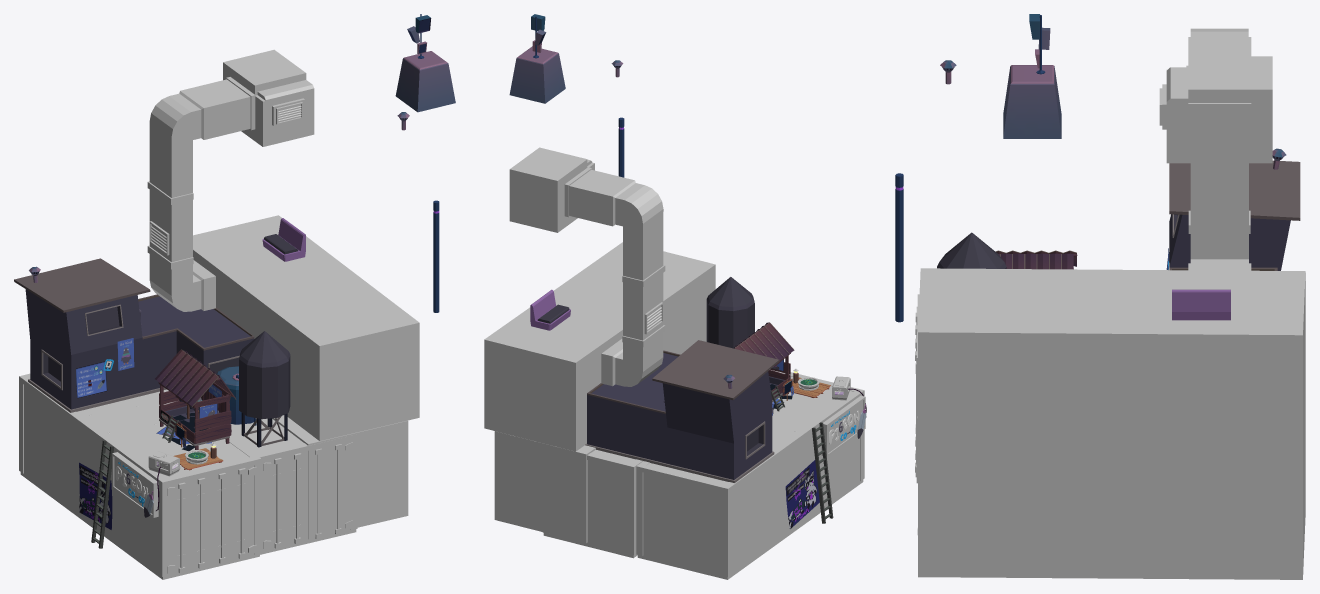
File: DBPigeonCoop.fbx
3 renders of one model, left to right at view 1: azimuth 30°, elevation 25°; view 2: azimuth 150°, elevation 25°; view 3: azimuth 270°, elevation 25°, orthographic. The views are drawn at different scales.
Visible parts, largest first — view 1: BoxCrate.224, BoxCrate.095, Pigeon_Home, Vent.024, BoxCrate.238, BoxCrate.096, Pigeon_Coop, WaterTank.007, Transformer.013, Pigeon_Sign, Poster.158, Pigeon_Chair (+6 smaller); view 2: BoxCrate.224, BoxCrate.095, Pigeon_Home, Vent.024, BoxCrate.238, BoxCrate.096, Transformer.013, WaterTank.007, Pigeon_Coop, Pigeon_Sign, Poster.158, Pigeon_Chair (+1 smaller); view 3: BoxCrate.224, BoxCrate.238, Vent.024, Pigeon_Home, Transformer.013, Pigeon_Chair, WaterTank.007, Pigeon_Coop, Pigeon_Power_Antenna.002.
Part boxes in pixels (<box>): BoxCrate.224: <box>193,215,419,440</box>; BoxCrate.095: <box>19,373,261,579</box>; Pigeon_Home: <box>14,258,254,412</box>; Vent.024: <box>147,49,314,311</box>; BoxCrate.238: <box>272,415,408,539</box>; BoxCrate.096: <box>231,418,357,554</box>; Pigeon_Coop: <box>155,349,236,449</box>; WaterTank.007: <box>239,331,290,447</box>; Transformer.013: <box>395,14,455,112</box>; Pigeon_Sign: <box>112,452,160,517</box>; Poster.158: <box>79,462,112,529</box>; Pigeon_Chair: <box>262,218,305,261</box>; BoxCrate.224: <box>484,242,715,451</box>; BoxCrate.095: <box>636,370,864,579</box>; Pigeon_Home: <box>585,340,779,482</box>; Vent.024: <box>509,147,665,386</box>; BoxCrate.238: <box>494,431,595,543</box>; BoxCrate.096: <box>543,450,642,558</box>; Transformer.013: <box>509,14,565,103</box>; WaterTank.007: <box>706,277,754,348</box>; Pigeon_Coop: <box>734,322,794,401</box>; Pigeon_Sign: <box>821,388,866,456</box>; Poster.158: <box>785,460,819,528</box>; Pigeon_Chair: <box>530,289,570,330</box>; BoxCrate.224: <box>918,268,1305,460</box>; BoxCrate.238: <box>918,399,1305,579</box>; Vent.024: <box>1159,28,1272,270</box>; Pigeon_Home: <box>1169,160,1300,270</box>; Transformer.013: <box>1003,14,1061,138</box>; Pigeon_Chair: <box>1172,289,1230,320</box>; WaterTank.007: <box>937,232,1006,268</box>; Pigeon_Coop: <box>995,250,1077,269</box>; Pigeon_Power_Antenna.002: <box>895,173,903,322</box>.
Size of the model in its own units: 3292 by 4232 by 2593.
